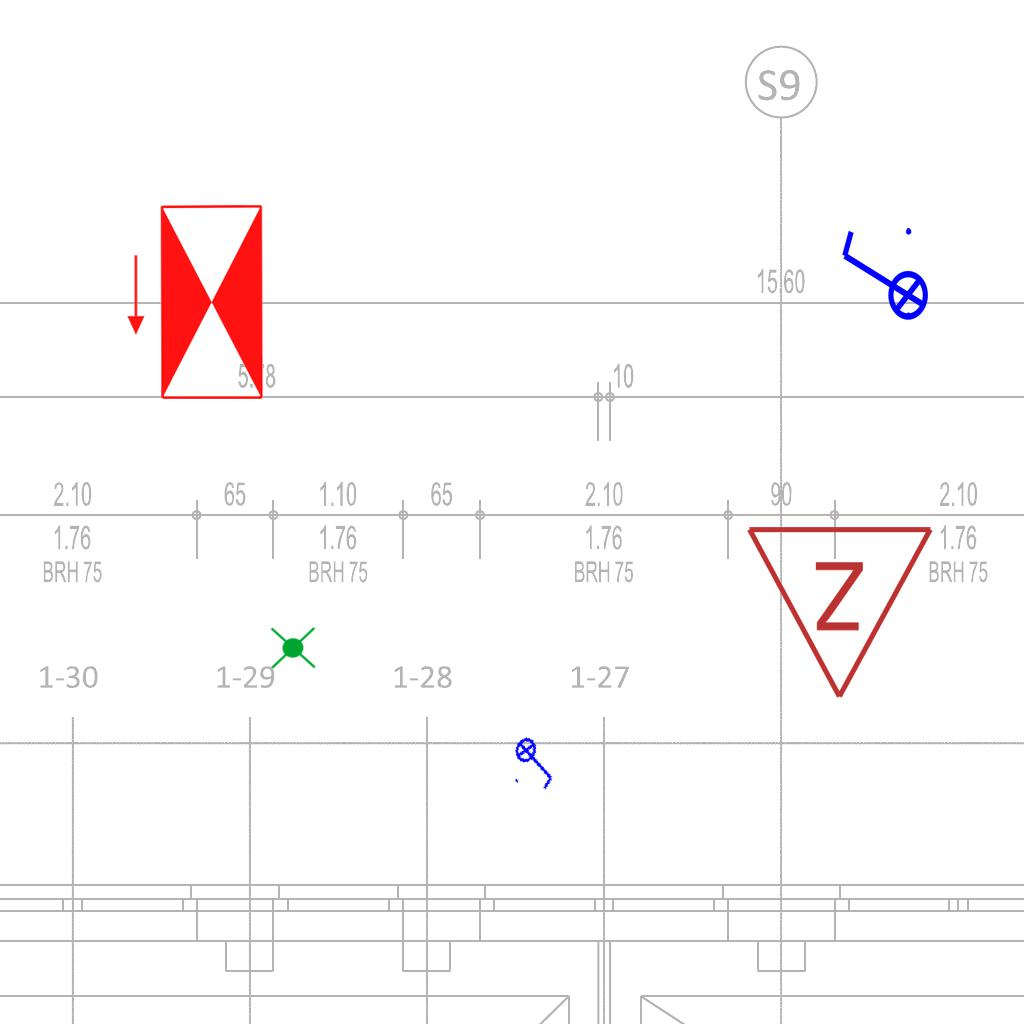Ausschalter_beleuchtet: (834, 222, 930, 334), (505, 728, 567, 796)
Fluchtwegpiktogramm: (122, 198, 269, 406)
Notlichtbaustein_in_Allgemeinbeleuchtug_engebaut_Einbau_(1UG_und_2UG_Aufbauvaria: (268, 623, 318, 674)
Zimmersignalleuchte: (744, 512, 940, 712)
